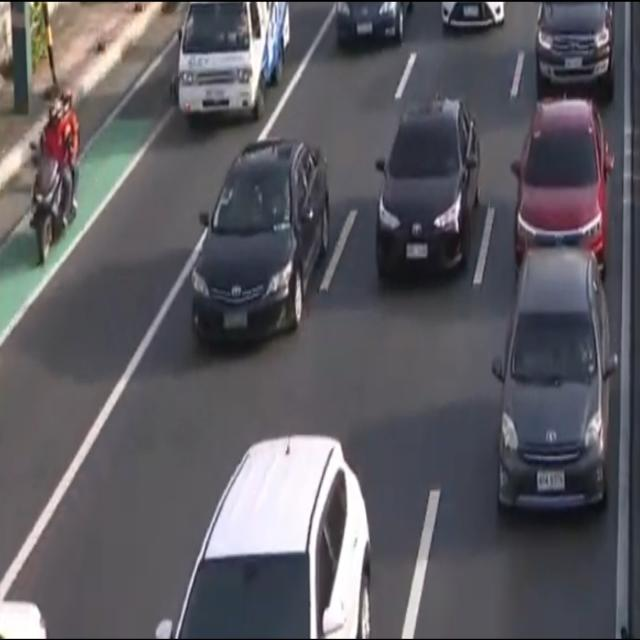Motorcycle: (29, 83, 79, 270)
SUV: (154, 434, 374, 640), (494, 252, 617, 523), (535, 0, 618, 87)
Sedan: (188, 138, 330, 345), (370, 102, 484, 283), (510, 96, 615, 275)
Truck: (169, 0, 293, 120)
